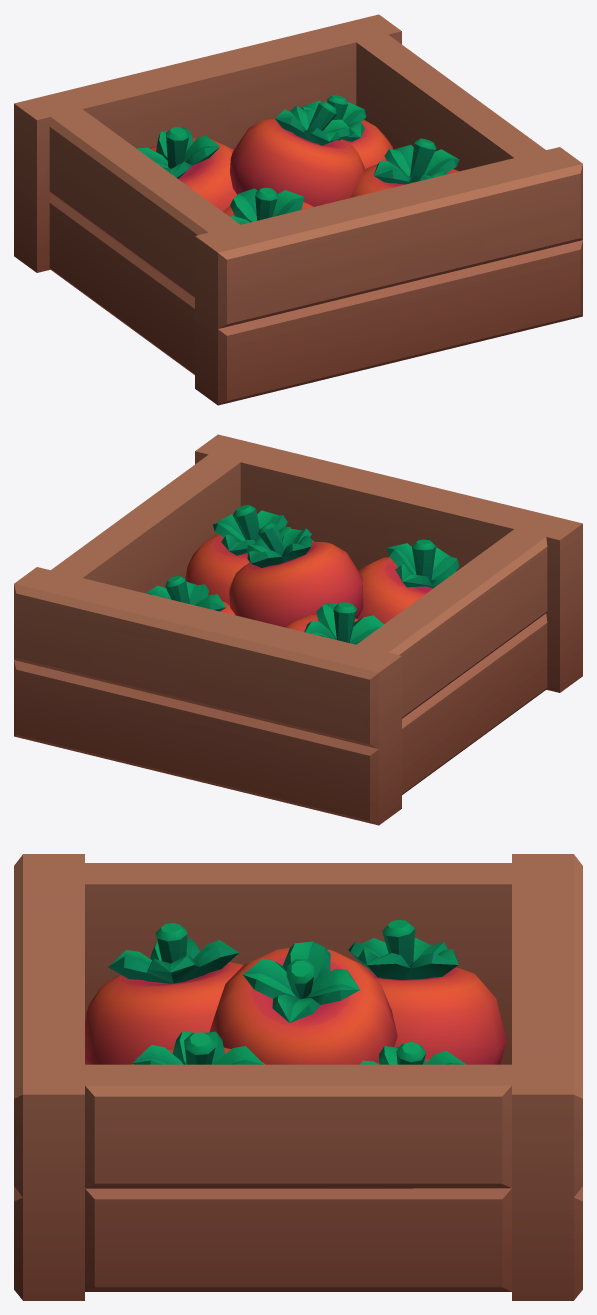
Rendered from market-crate-tomatoes.glb.
The picture shows the model from 3 angles, top to bottom: view 1: azimuth 30°, elevation 25°; view 2: azimuth 150°, elevation 25°; view 3: azimuth 270°, elevation 25°; orthographic projection. The views are drawn at different scales.
Visible parts, largest first — view 1: crate_tomatoes; view 2: crate_tomatoes; view 3: crate_tomatoes.
Part boxes in pixels (left/top/right/bottom): crate_tomatoes: left=14, top=14, right=582, bottom=405; crate_tomatoes: left=14, top=434, right=582, bottom=825; crate_tomatoes: left=14, top=854, right=582, bottom=1300.
Bounding box in the file's own units: 65534 × 30250 × 65534.
Materials: 1 (1 with a texture image).
